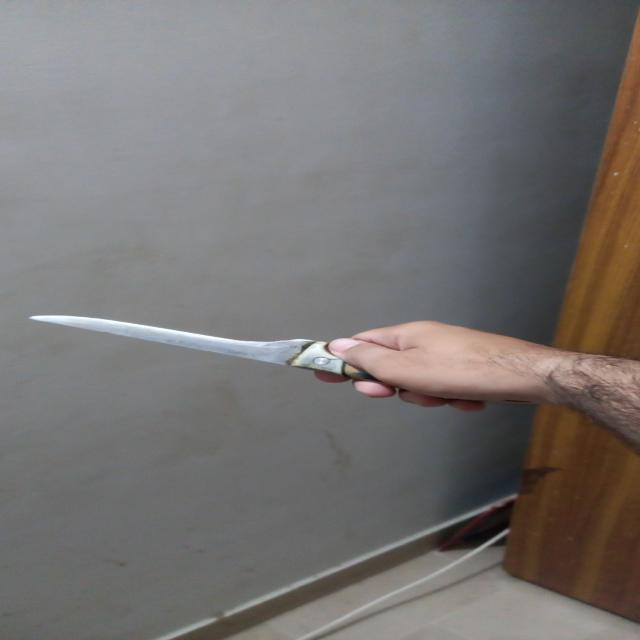Knife: (19, 311, 534, 419)
